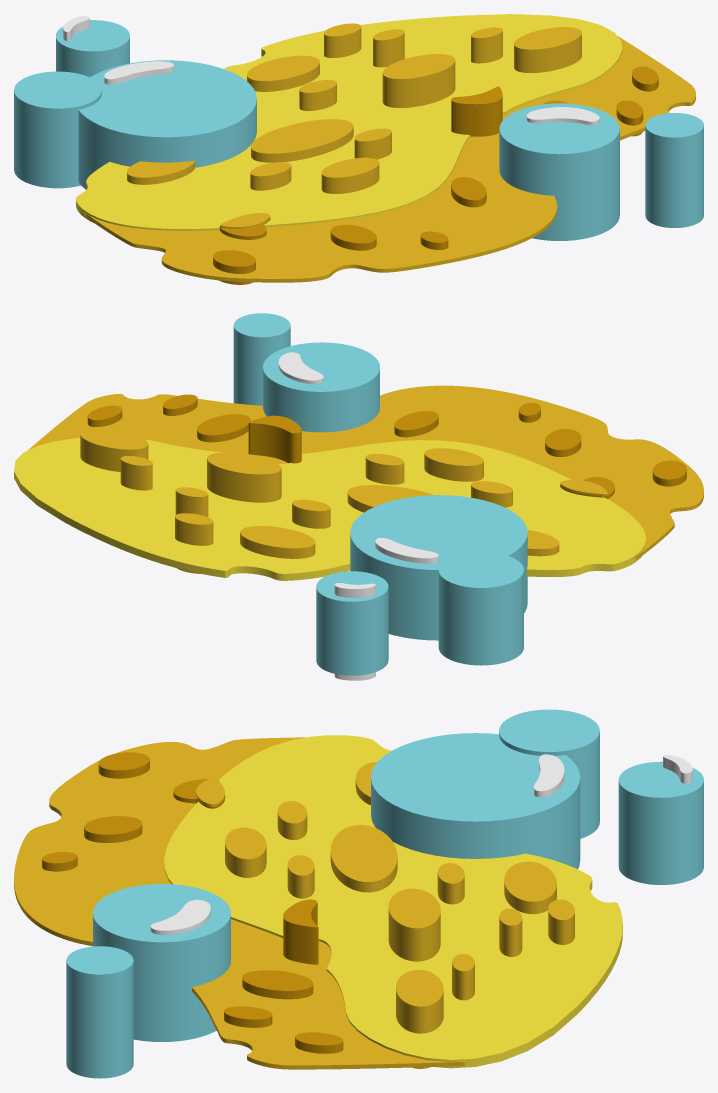
Rendered from emoji_u1f9fd.glb.
3 renders of one model, top to bottom at view 1: azimuth 30°, elevation 25°; view 2: azimuth 150°, elevation 25°; view 3: azimuth 270°, elevation 25°, orthographic. The views are drawn at different scales.
Parts seen in each view (by area): view 1: emoji_u1f9fd; view 2: emoji_u1f9fd; view 3: emoji_u1f9fd.
Boxes of the visible parts, x1,y1,x2,y2 form: emoji_u1f9fd: (14,14,703,284); emoji_u1f9fd: (14,313,703,680); emoji_u1f9fd: (14,709,703,1078).
Size of the model in its own units: 0.0339 by 0.0052 by 0.0301.
